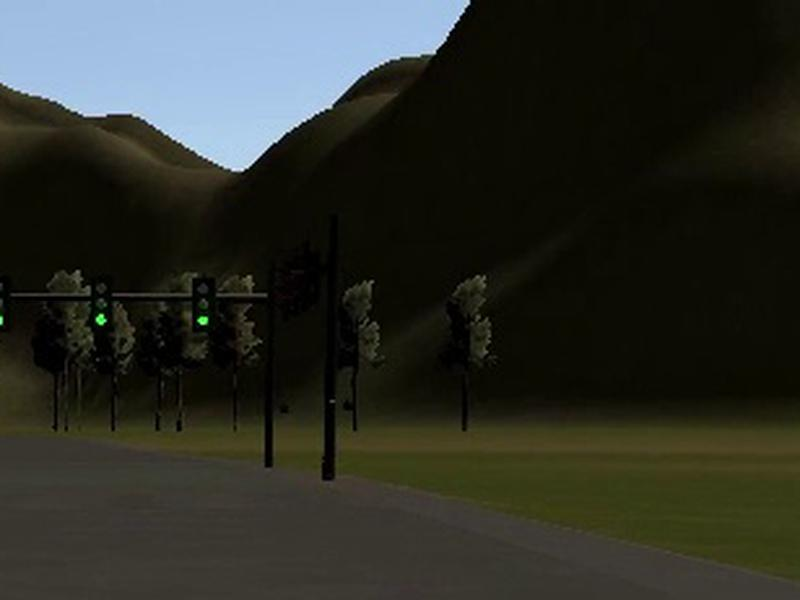Green: (193, 277, 215, 332), (90, 277, 111, 331), (1, 275, 9, 329)
